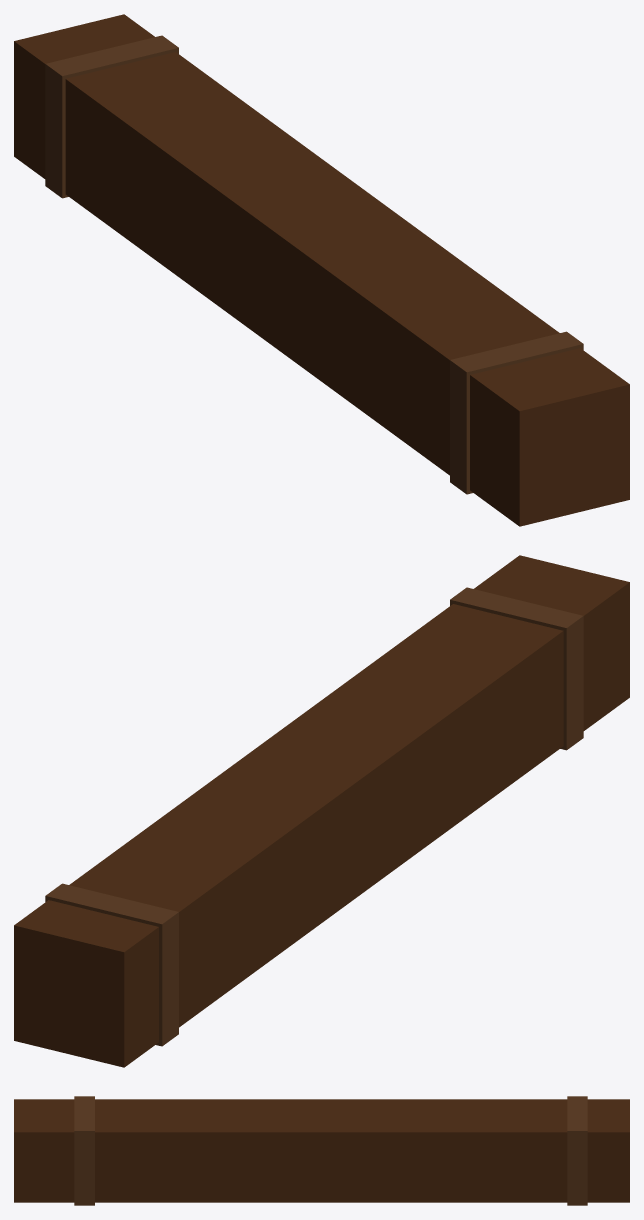
Rendered from SM_Izba_CornerPost_1348_LOD0.obj.
3 views of the same model, one above another, from view 1: azimuth 30°, elevation 25°; view 2: azimuth 150°, elevation 25°; view 3: azimuth 270°, elevation 25° (orthographic). The views are drawn at different scales.
Parts seen in each view (by area): view 1: corner_mortised_post, mortise_collar; view 2: corner_mortised_post, mortise_collar; view 3: corner_mortised_post, mortise_collar.
Boxes of the visible parts, x1,y1,x2,y2 form: corner_mortised_post: (14, 14, 629, 526); mortise_collar: (45, 35, 583, 494); corner_mortised_post: (14, 555, 629, 1067); mortise_collar: (45, 587, 583, 1046); corner_mortised_post: (14, 1099, 629, 1202); mortise_collar: (74, 1096, 587, 1205).
Size of the model in its own units: 0.36 by 0.365 by 2.7.
